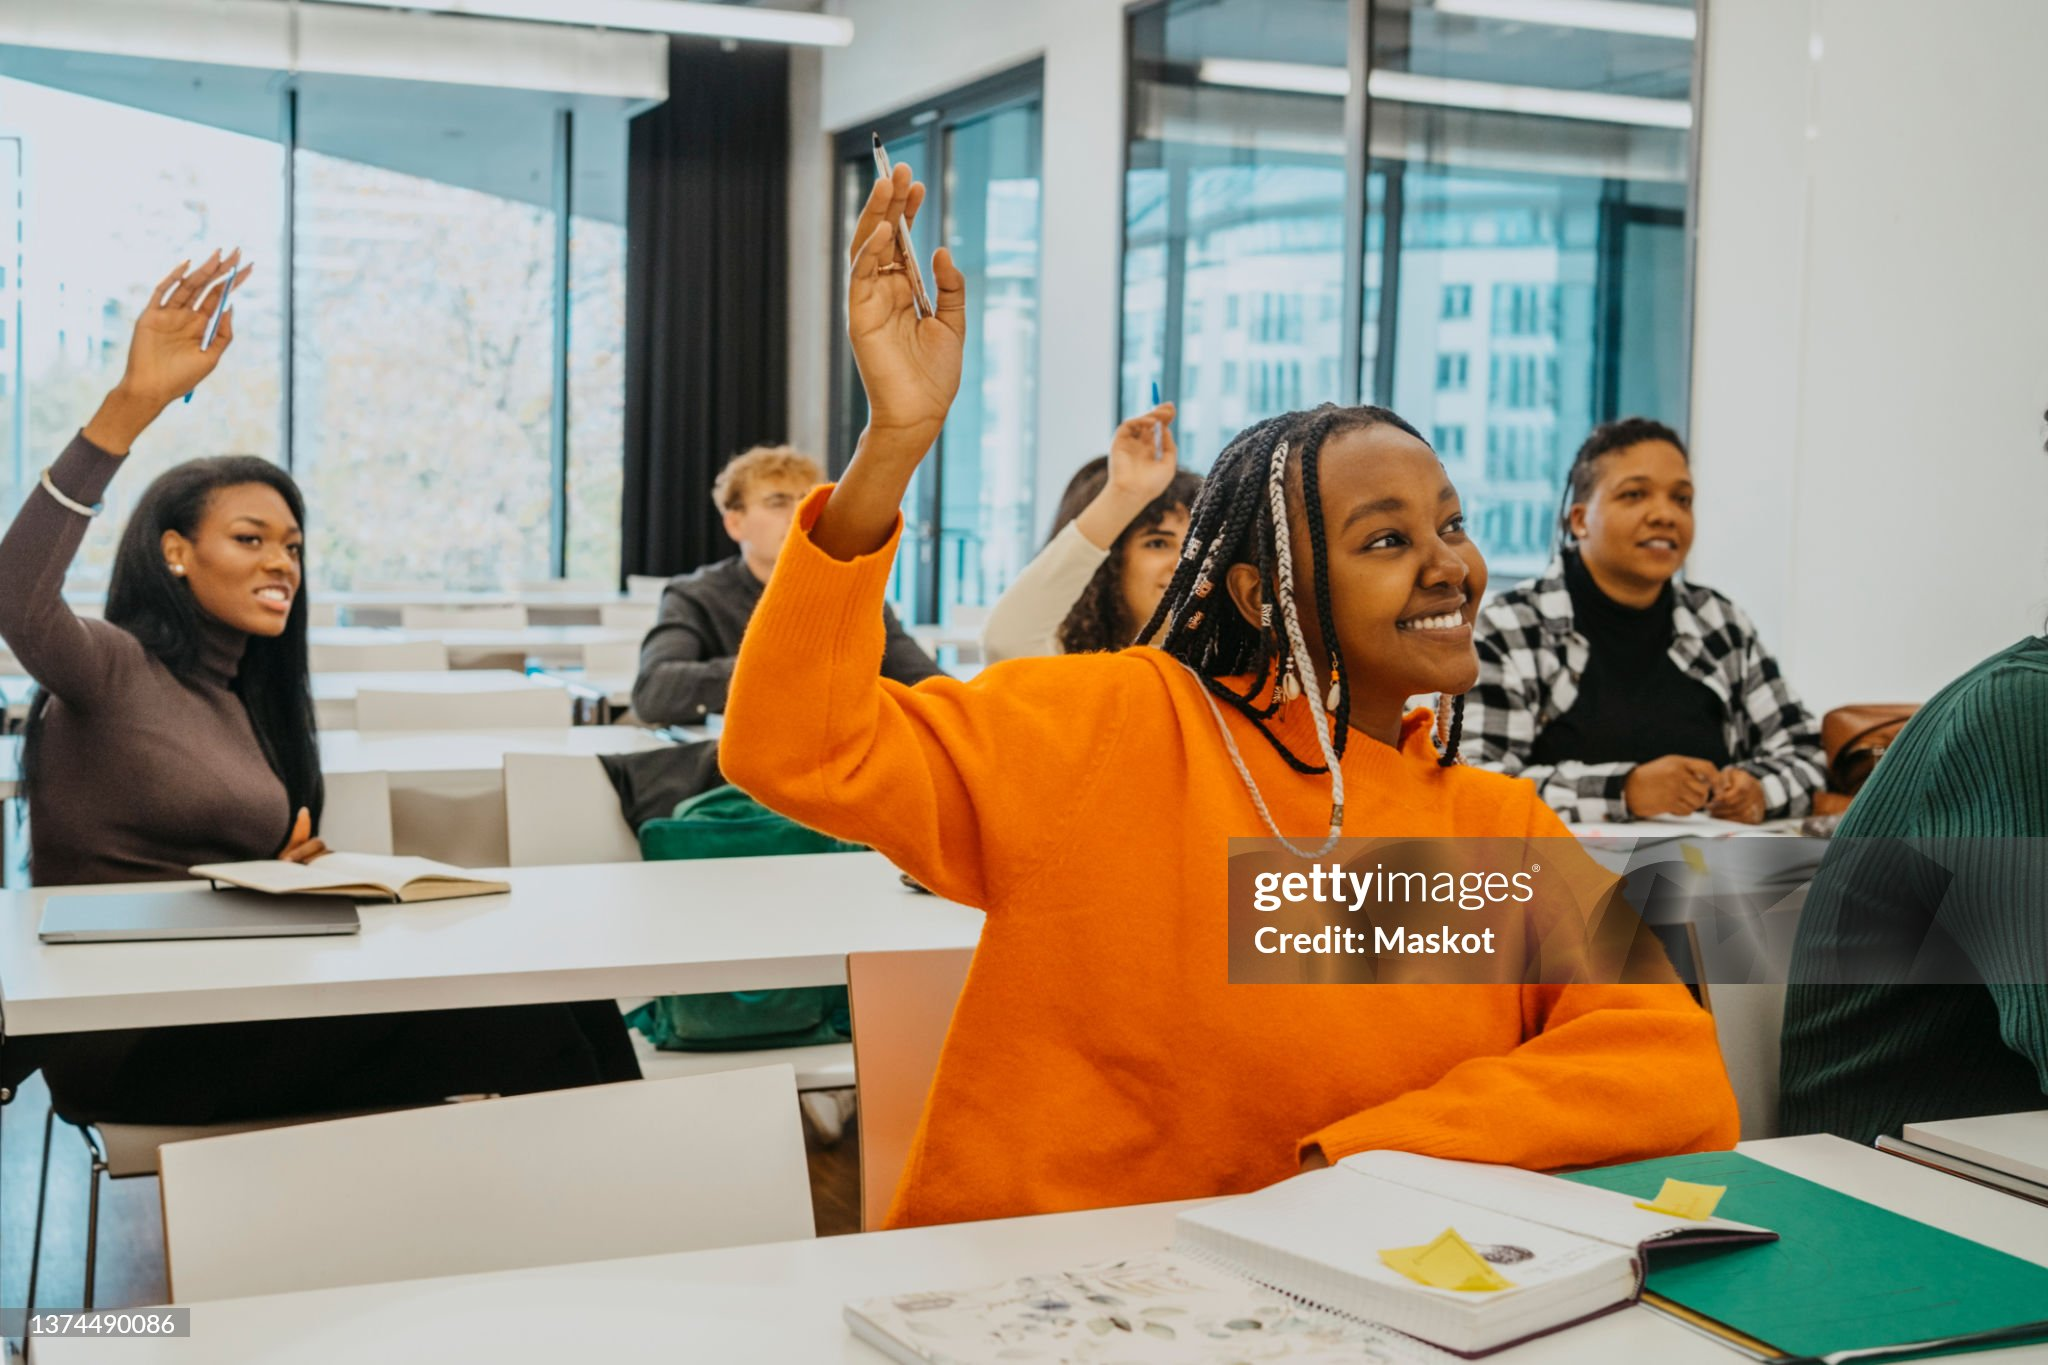entre30-50-porcento: (0, 142, 2046, 1345)
